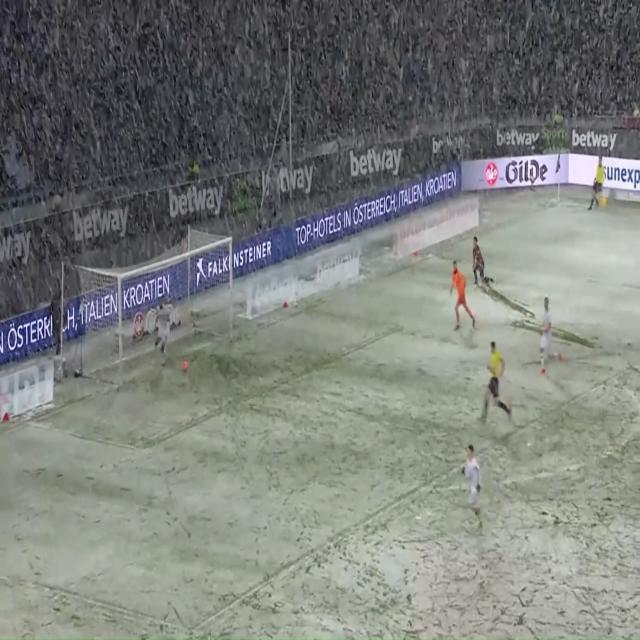ball: (181, 356, 191, 376)
goalkeeper: (438, 260, 477, 334)
player: (456, 434, 488, 537), (532, 287, 565, 380), (464, 227, 496, 296), (145, 299, 174, 375)
referee: (476, 335, 514, 429), (584, 147, 608, 215)
